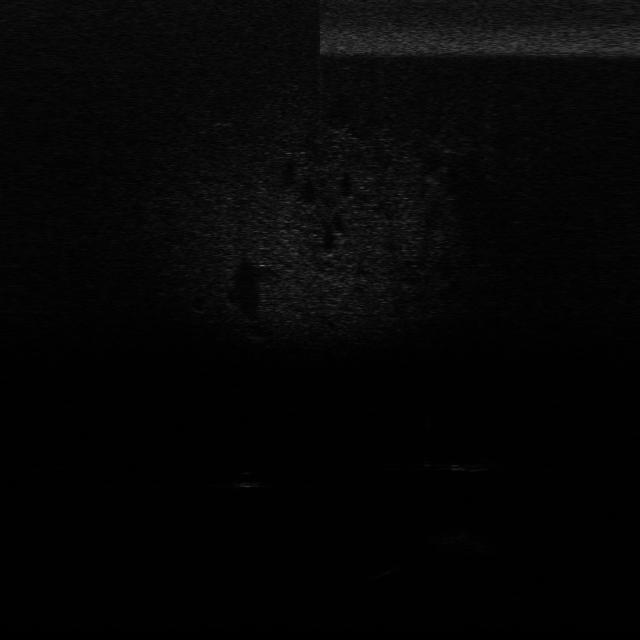ball: (233, 469, 263, 490)
circle cage: (423, 521, 497, 564)
human body: (424, 452, 500, 476)
